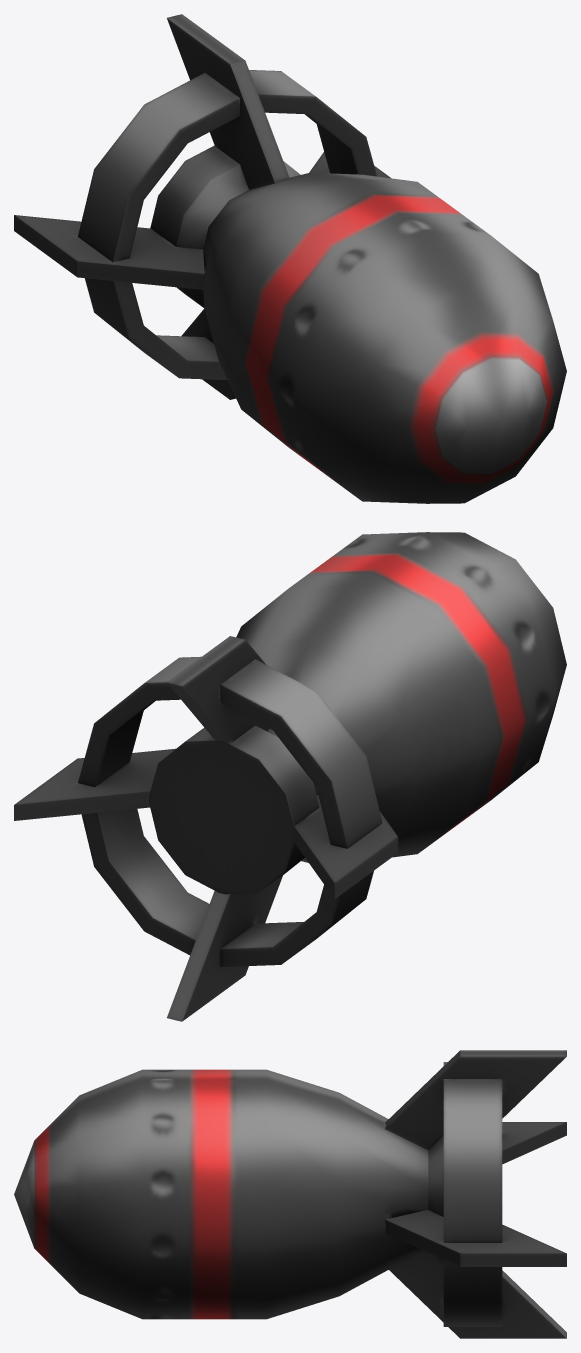
Rendered from boss_mechalodon_bullet.fbx.
The picture shows the model from 3 angles, top to bottom: view 1: azimuth 30°, elevation 25°; view 2: azimuth 150°, elevation 25°; view 3: azimuth 270°, elevation 25°; orthographic projection. The views are drawn at different scales.
Parts seen in each view (by area): view 1: Cylinder.045; view 2: Cylinder.045; view 3: Cylinder.045.
Boxes of the visible parts, left/top/right/bottom form: Cylinder.045: left=14, top=14, right=566, bottom=503; Cylinder.045: left=14, top=532, right=566, bottom=1021; Cylinder.045: left=14, top=1050, right=566, bottom=1338.
Size of the model in its own units: 30.16 by 30.16 by 53.59.
